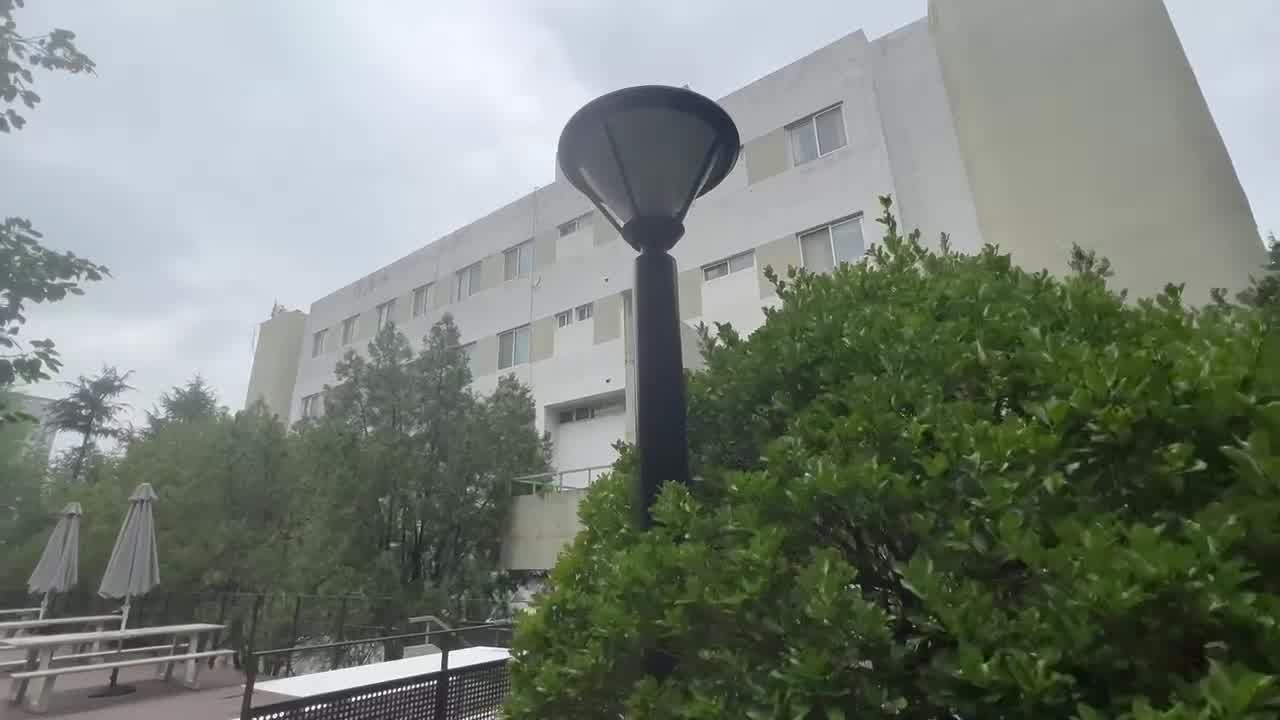low: (744, 23, 1229, 251)
